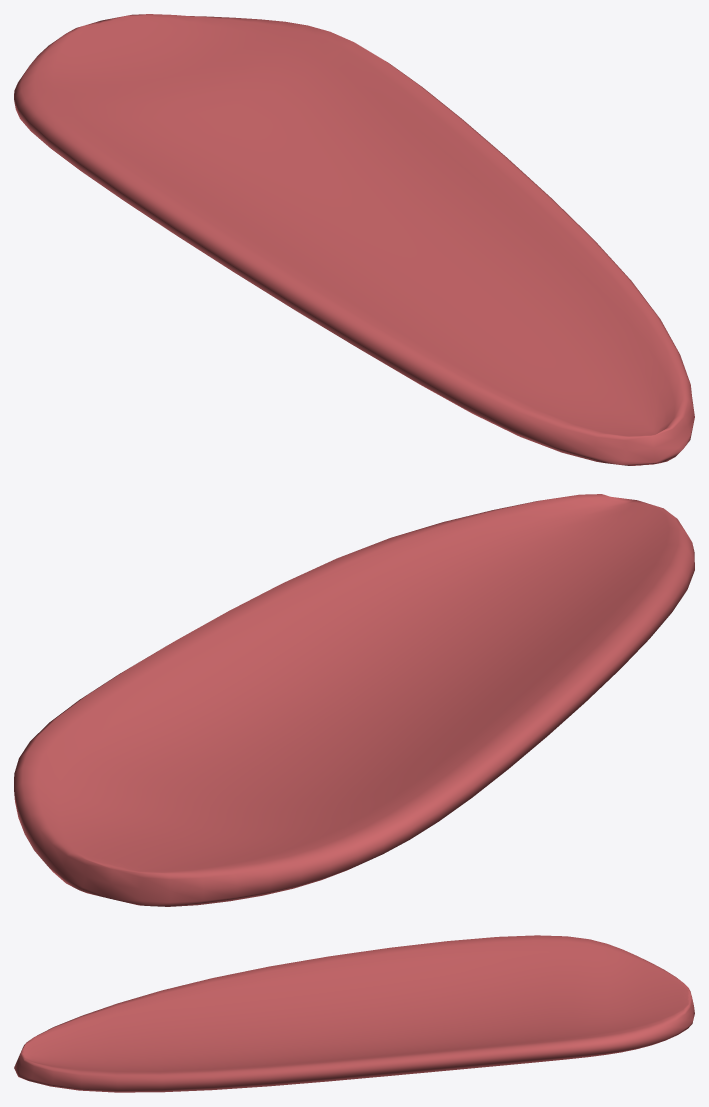
The picture shows the model from 3 angles, top to bottom: view 1: azimuth 30°, elevation 25°; view 2: azimuth 150°, elevation 25°; view 3: azimuth 270°, elevation 25°; orthographic projection. The views are drawn at different scales.
Visible parts, largest first — view 1: 左侧髌上囊; view 2: 左侧髌上囊; view 3: 左侧髌上囊.
Part boxes in pixels (left/top/right/bottom): 左侧髌上囊: left=14, top=14, right=694, bottom=465; 左侧髌上囊: left=14, top=494, right=694, bottom=906; 左侧髌上囊: left=14, top=935, right=694, bottom=1092.
Bounding box in the file's own units: 0.0391 × 0.0113 × 0.0992.
